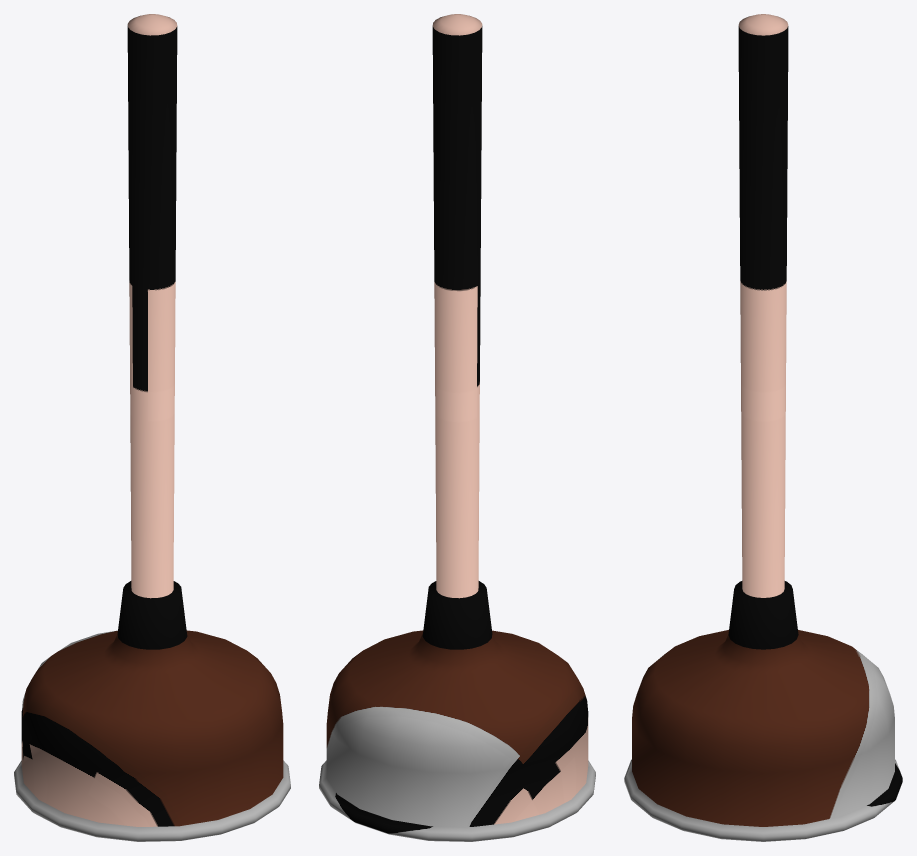
File: Plunger.FBX
The picture shows the model from 3 angles, left to right: view 1: azimuth 30°, elevation 25°; view 2: azimuth 150°, elevation 25°; view 3: azimuth 270°, elevation 25°; orthographic projection.
Parts seen in each view (by area): view 1: Plunger; view 2: Plunger; view 3: Plunger.
Part boxes in pixels (x1,y1,x2,y2): Plunger: [14, 14, 290, 841]; Plunger: [319, 14, 595, 841]; Plunger: [624, 14, 902, 841].
Bounding box in the file's own units: 5.47 × 16.68 × 5.47.
Materials: 1 (1 with a texture image).
